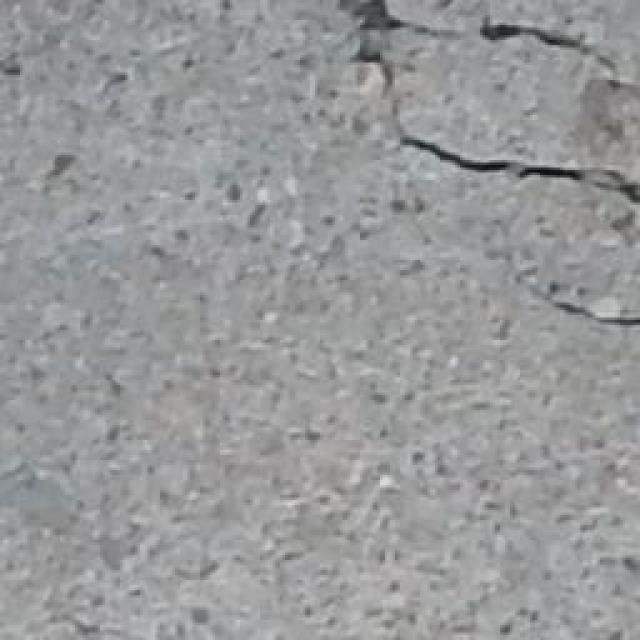concrete-crack: (333, 0, 640, 205), (529, 274, 640, 336)
